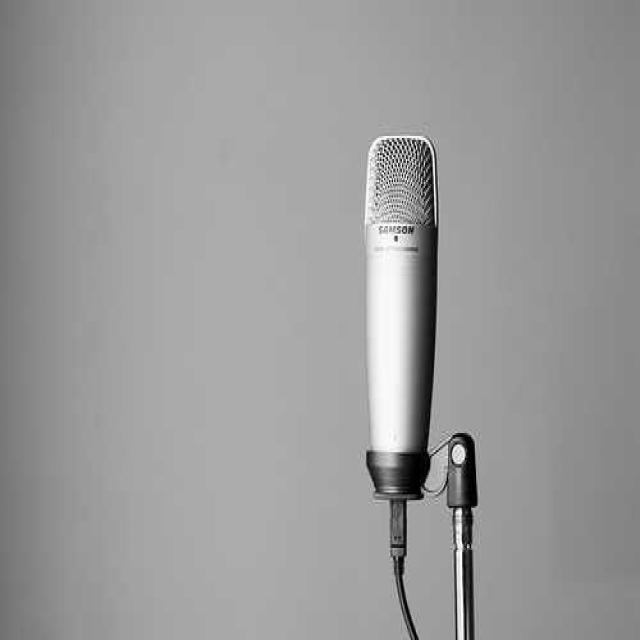microphone: (361, 131, 440, 493)
